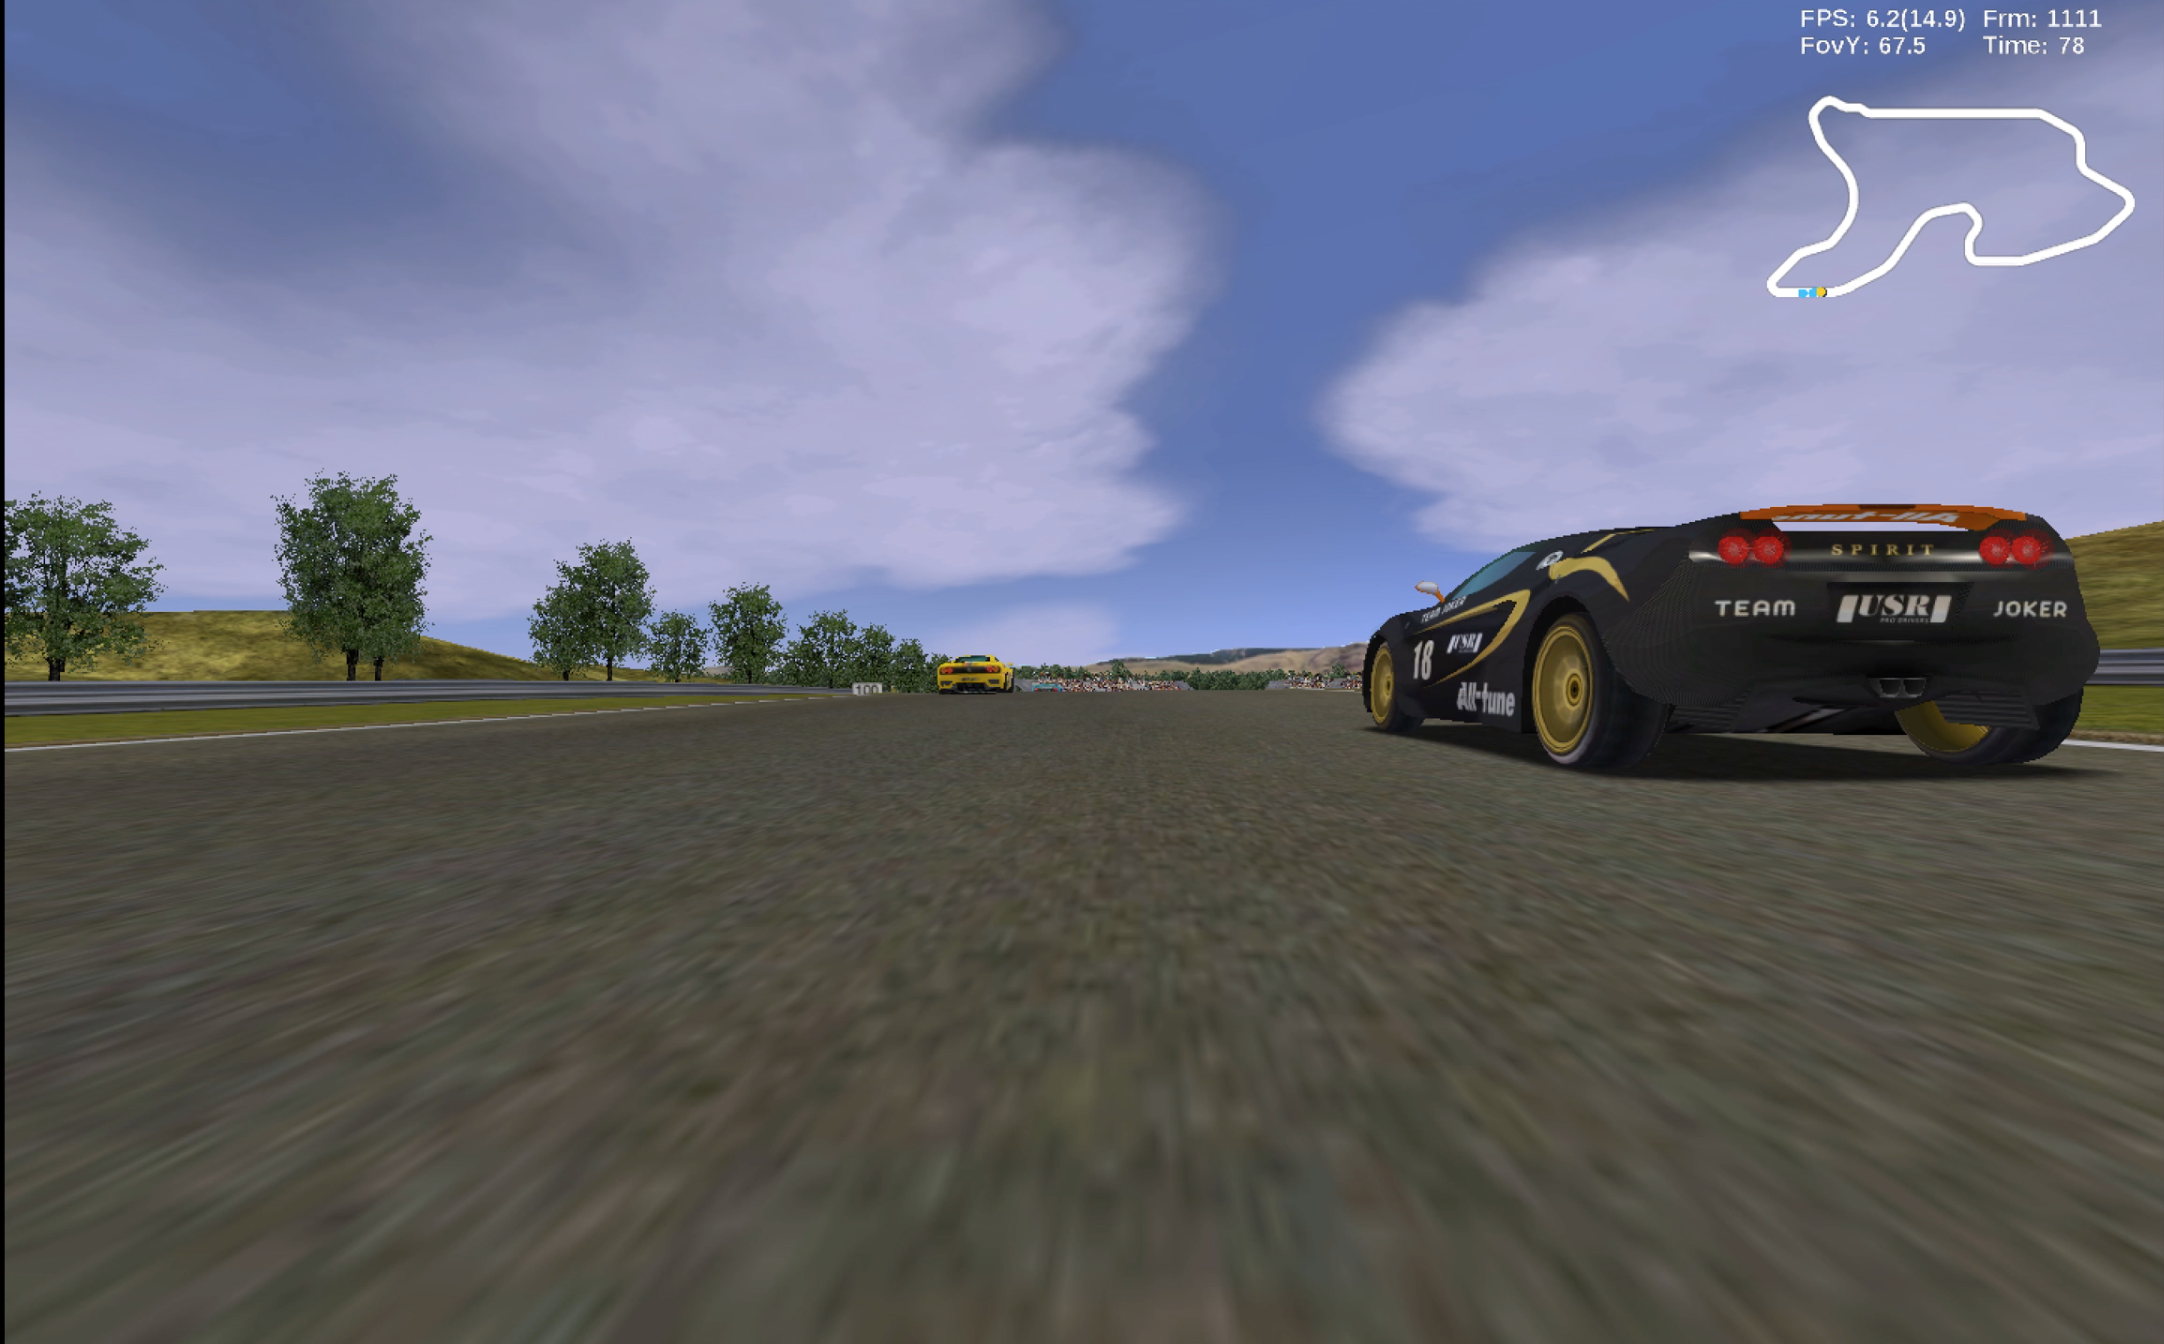Cavallo360: (940, 655, 1015, 695)
Spirit300: (1362, 500, 2101, 780)
